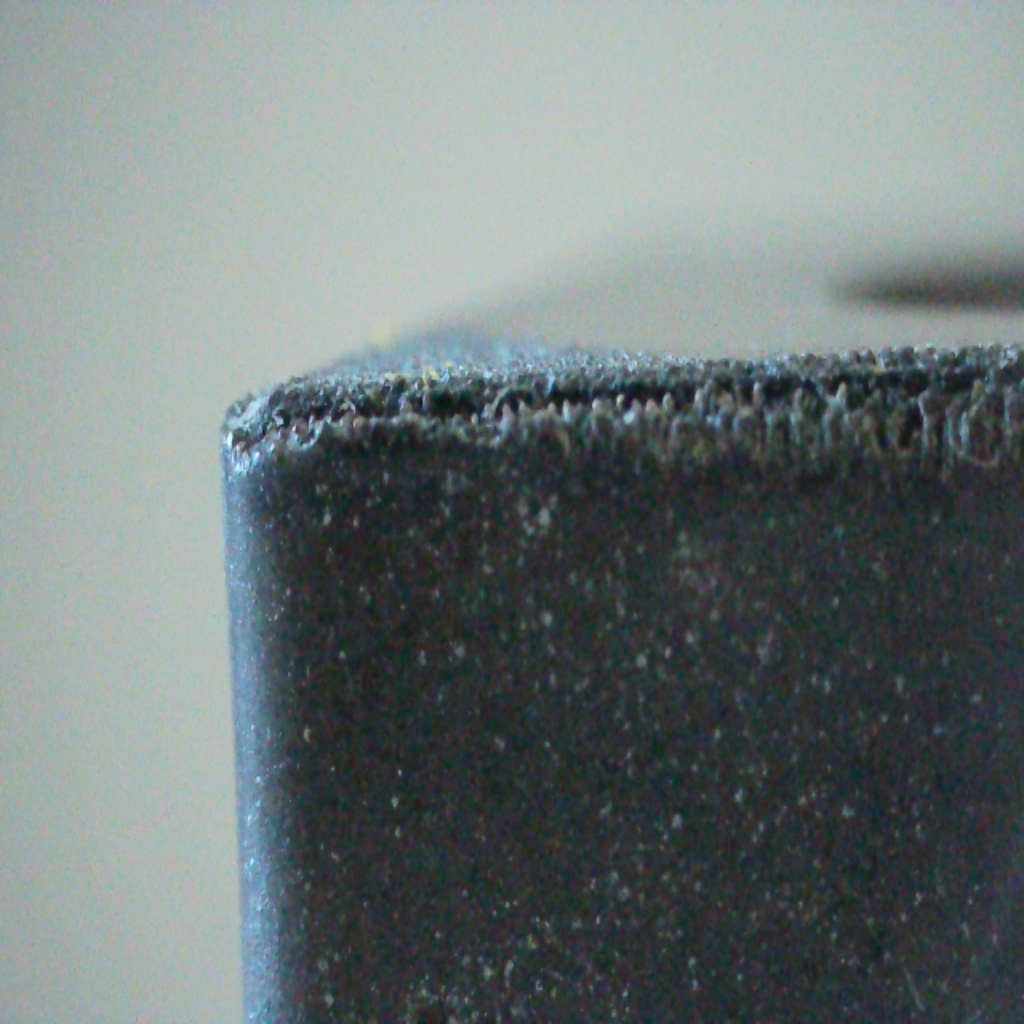flank_wear: (210, 355, 948, 490)
